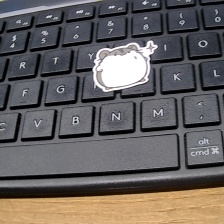mouse: (90, 41, 163, 94)
